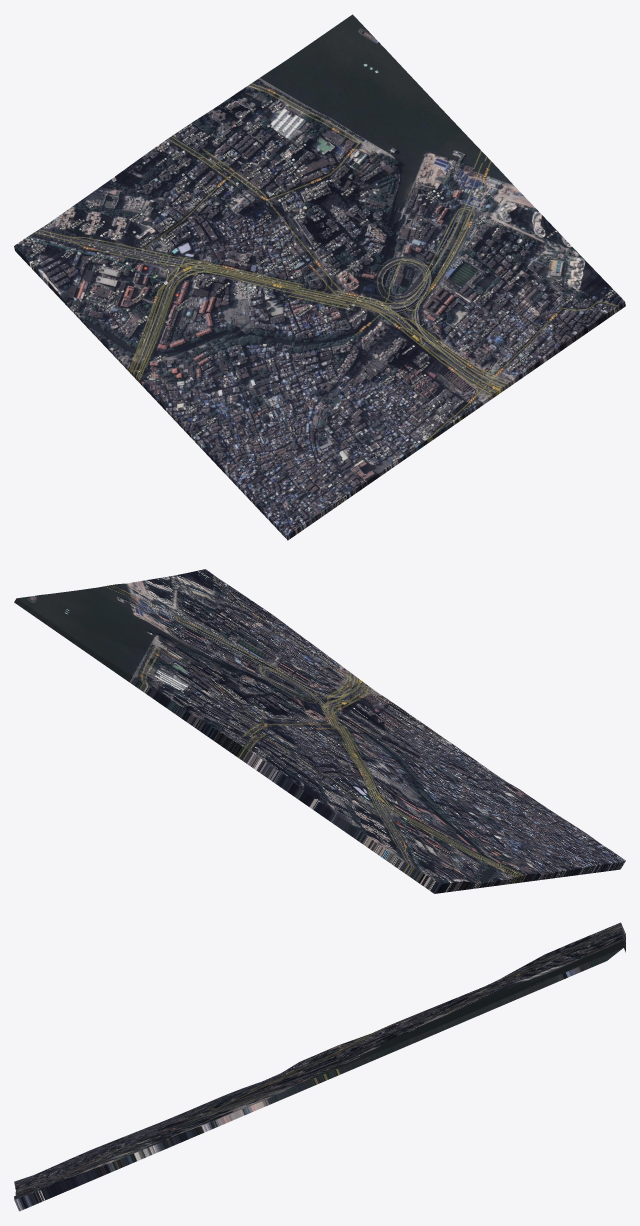
The picture shows the model from 3 angles, top to bottom: view 1: azimuth 30°, elevation 25°; view 2: azimuth 150°, elevation 25°; view 3: azimuth 270°, elevation 25°; orthographic projection. The views are drawn at different scales.
Parts seen in each view (by area): view 1: 1_7_4; view 2: 1_7_4; view 3: 1_7_4.
Part boxes in pixels (left/top/right/bottom): 1_7_4: left=14, top=14, right=625, bottom=540; 1_7_4: left=14, top=569, right=625, bottom=893; 1_7_4: left=14, top=922, right=625, bottom=1211.
Size of the model in its own units: 1231 by 892 by 1129.
1 material, 1 textured.
